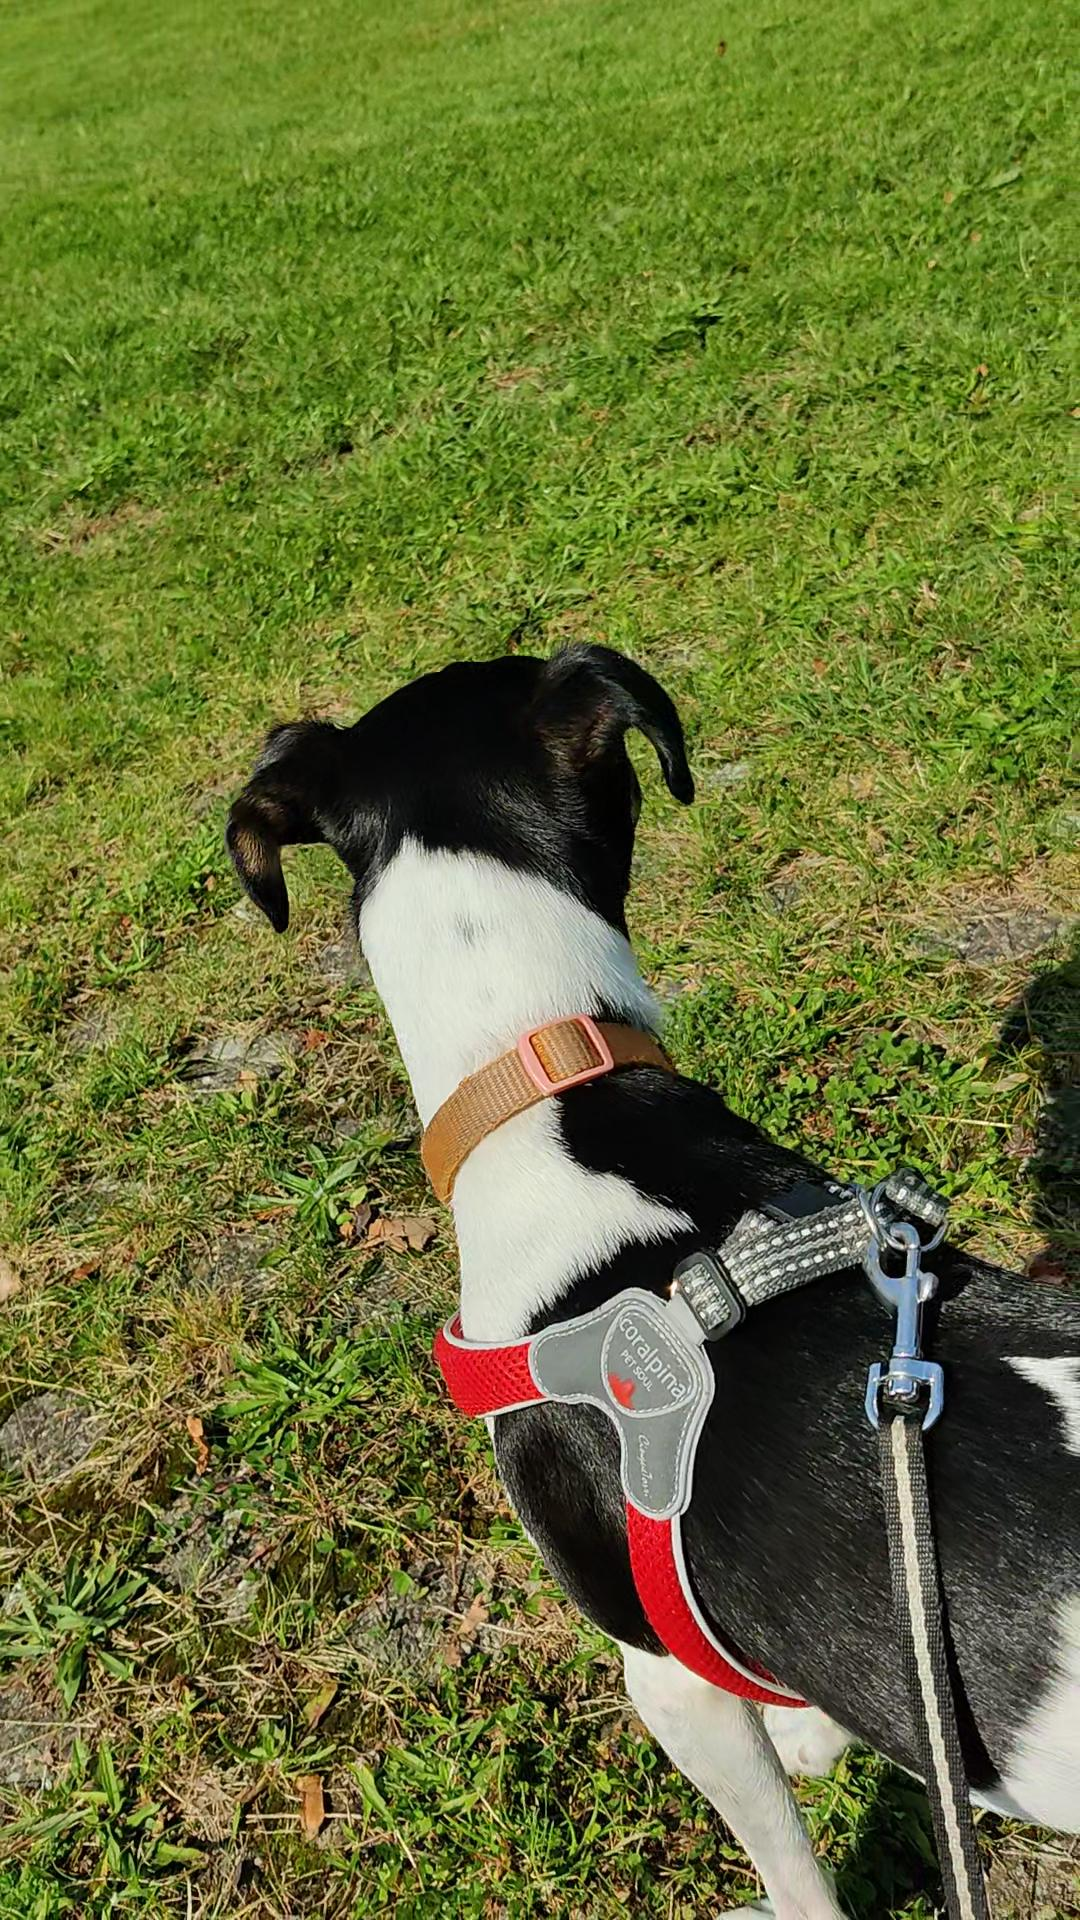Dog: (196, 626, 1079, 1919)
